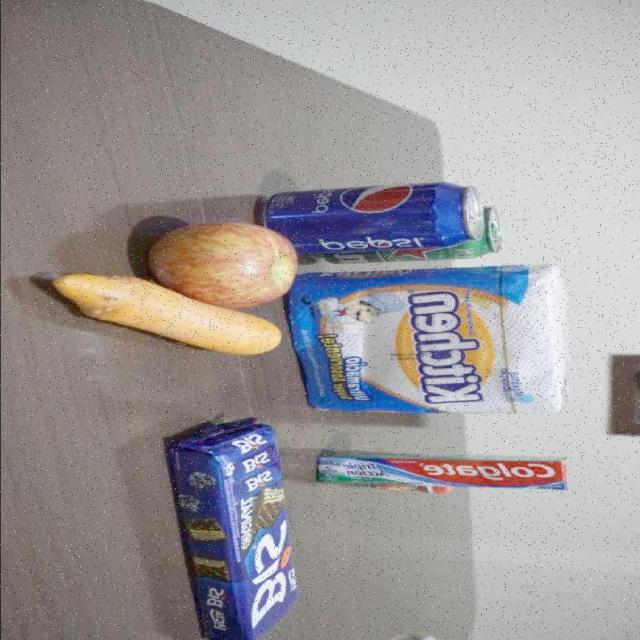Apple: (145, 224, 301, 296)
Carrot: (67, 301, 281, 355)
Napkin: (302, 267, 559, 412)
SodaCan: (262, 183, 473, 244)
Toothpaste: (313, 448, 567, 490)
